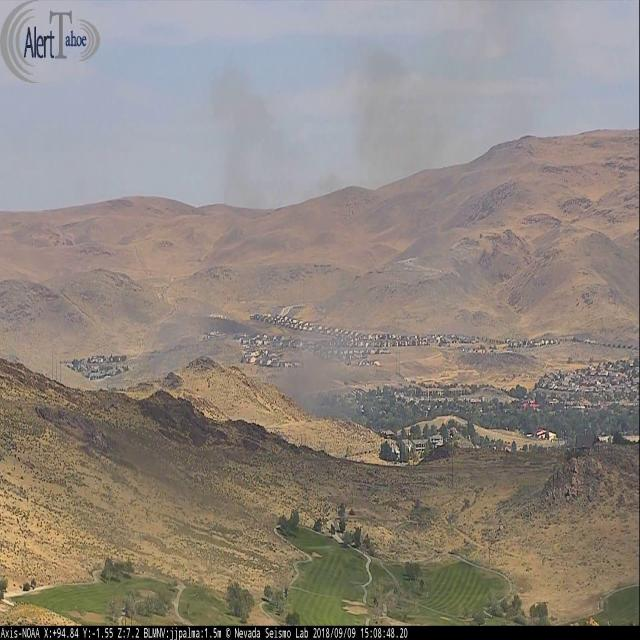smoke: (284, 30, 494, 419), (114, 53, 298, 395)
